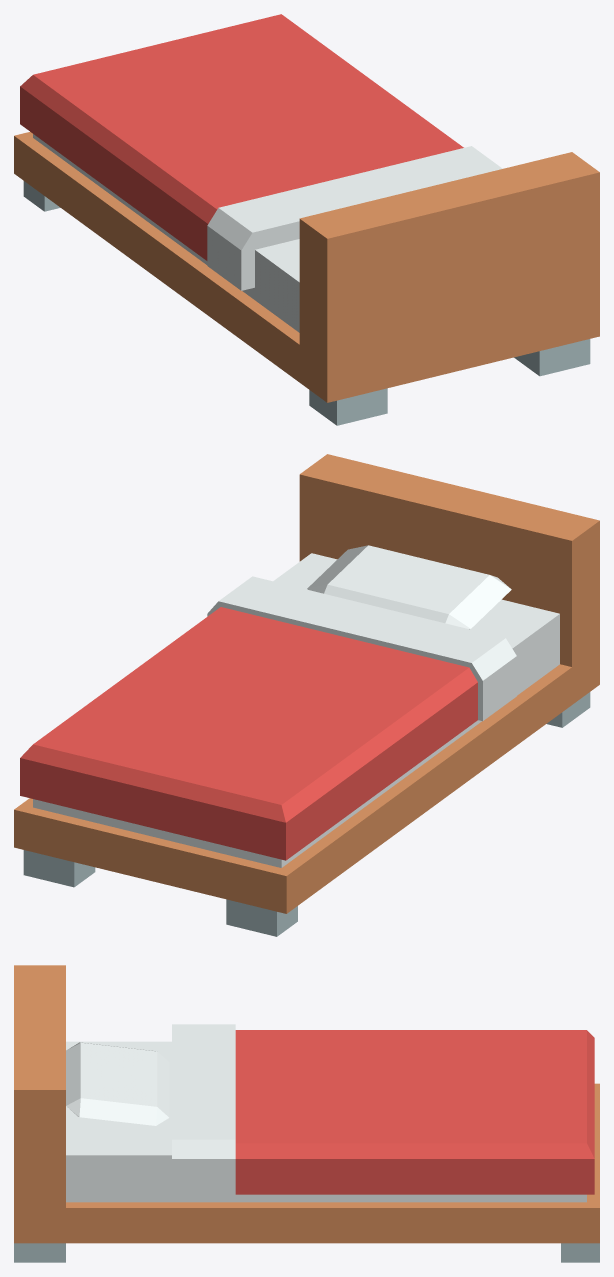
File: bedSingle.obj
3 renders of one model, top to bottom at view 1: azimuth 30°, elevation 25°; view 2: azimuth 150°, elevation 25°; view 3: azimuth 270°, elevation 25°, orthographic. The views are drawn at different scales.
Visible parts, largest first — view 1: bedSingle, cover; view 2: cover, bedSingle, pillow; view 3: cover, bedSingle, pillow.
Part boxes in pixels (<box>): bedSingle: <box>14,132,599,425</box>; cover: <box>20,14,502,290</box>; cover: <box>20,576,516,860</box>; bedSingle: <box>14,454,599,936</box>; pillow: <box>307,545,511,629</box>; cover: <box>172,1024,594,1196</box>; bedSingle: <box>14,965,599,1262</box>; pillow: <box>66,1042,169,1125</box>.
Bounding box in the file's own units: 0.571 × 0.375 × 1.12.
